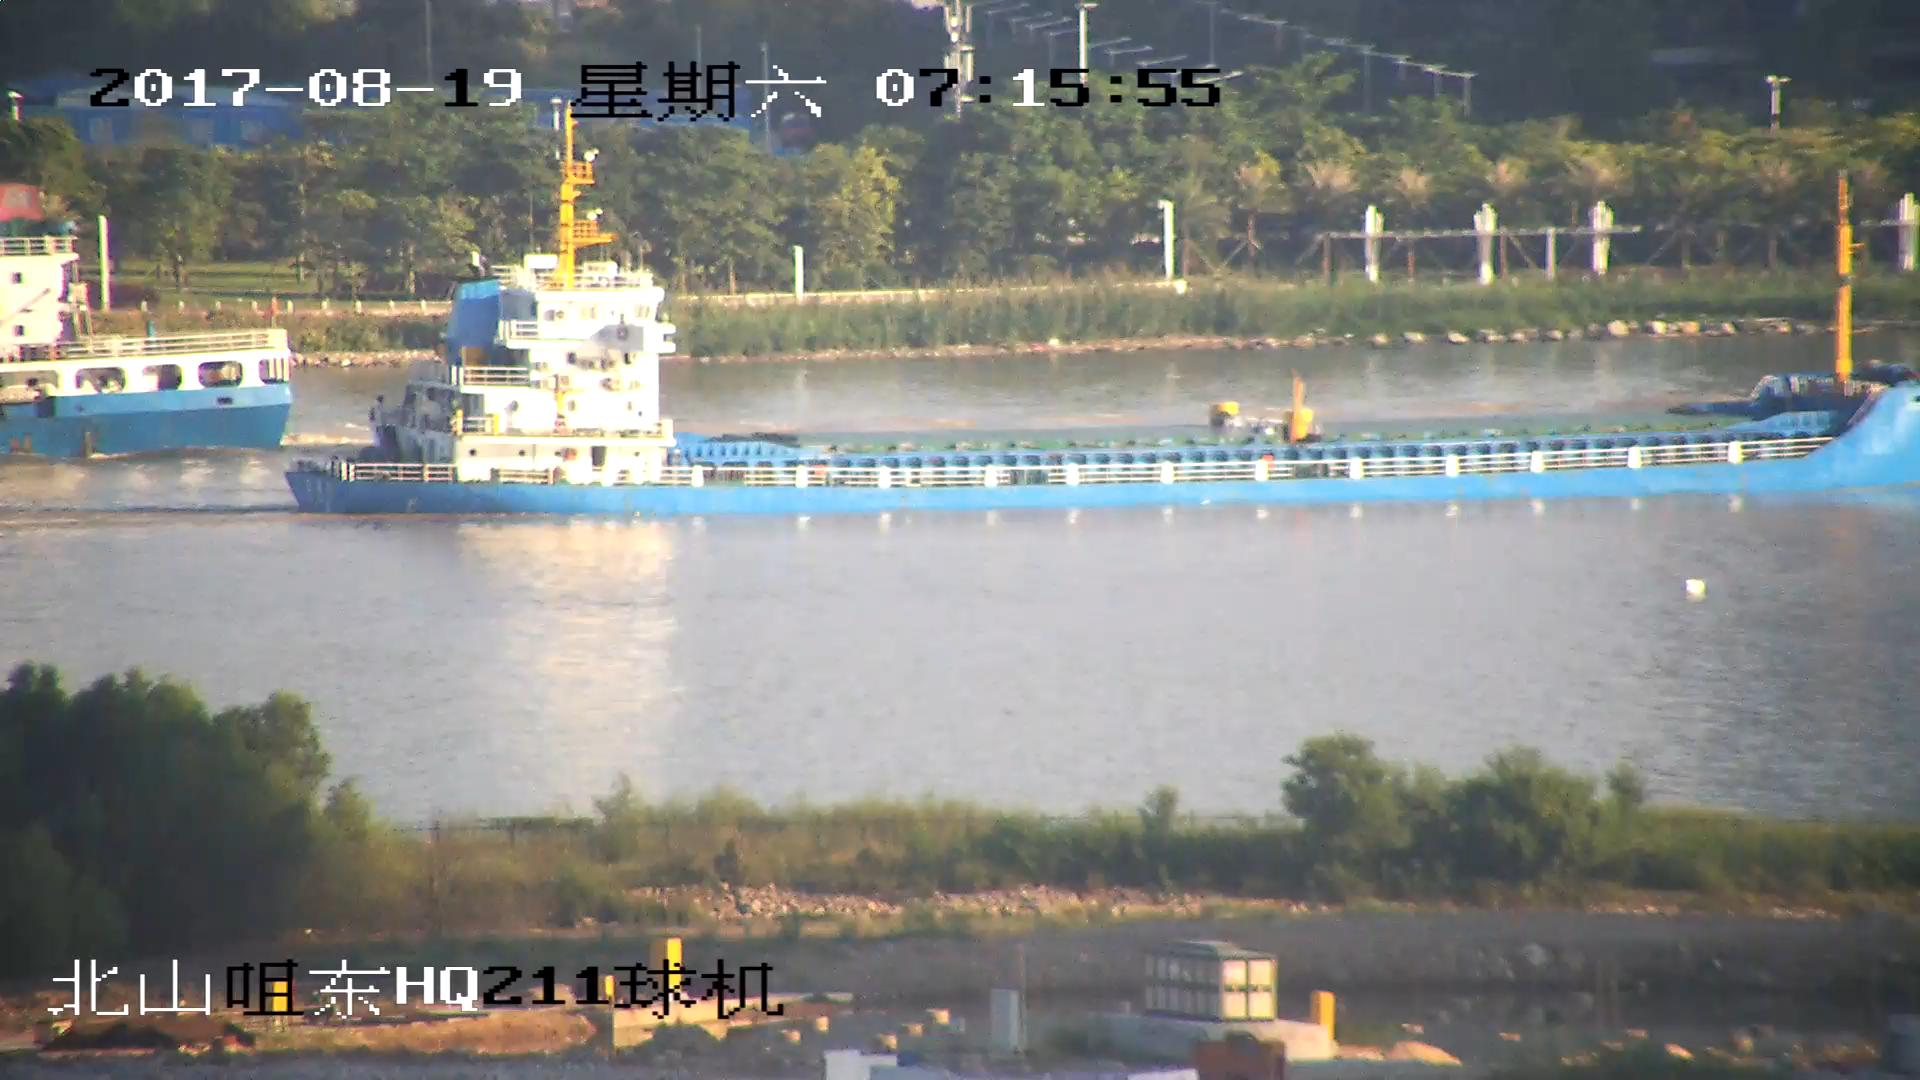general cargo ship: (278, 108, 1920, 511), (1, 113, 290, 459)
